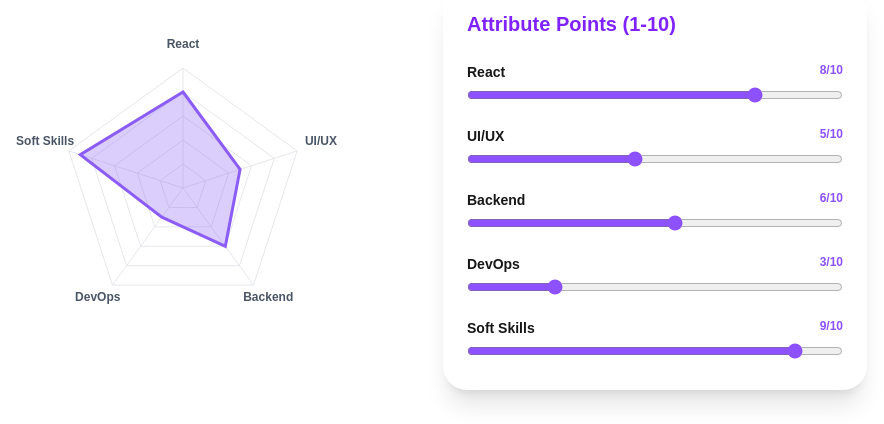
Skill Radar Micro-App › Radar Component › should update skill value when range input changes
Set the 1st slider to "4" at (595, 95), box x1=467 y1=87 x2=843 y2=103
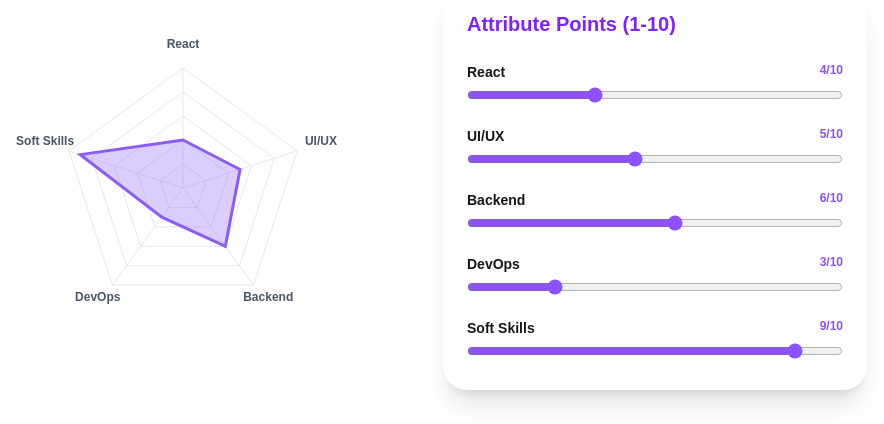
Expected: the text "4/10" is shown, x1=820 y1=62 x2=843 y2=82
Expected: the text "8/10" is gone
